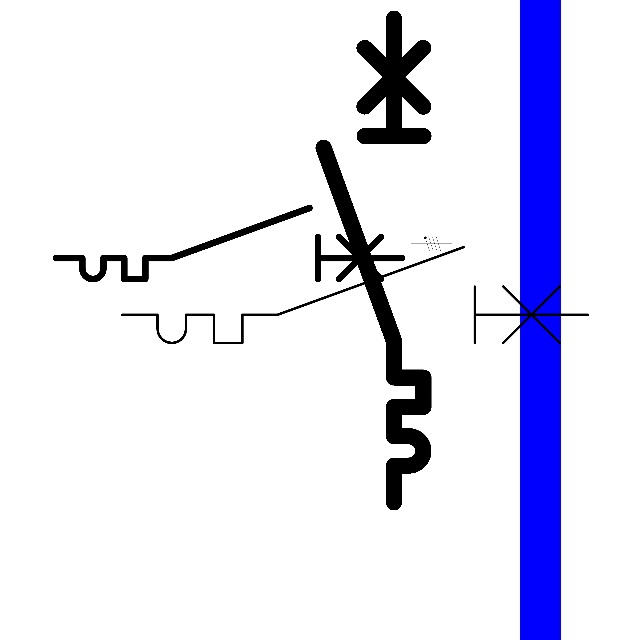interruptor_termomagnetico: (311, 6, 436, 515), (110, 235, 599, 355), (47, 199, 411, 288)
